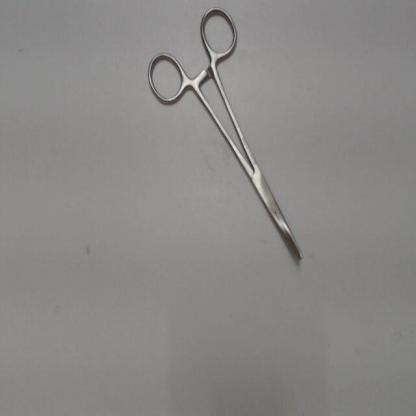Crile Artery Forceps: (143, 4, 311, 268)
